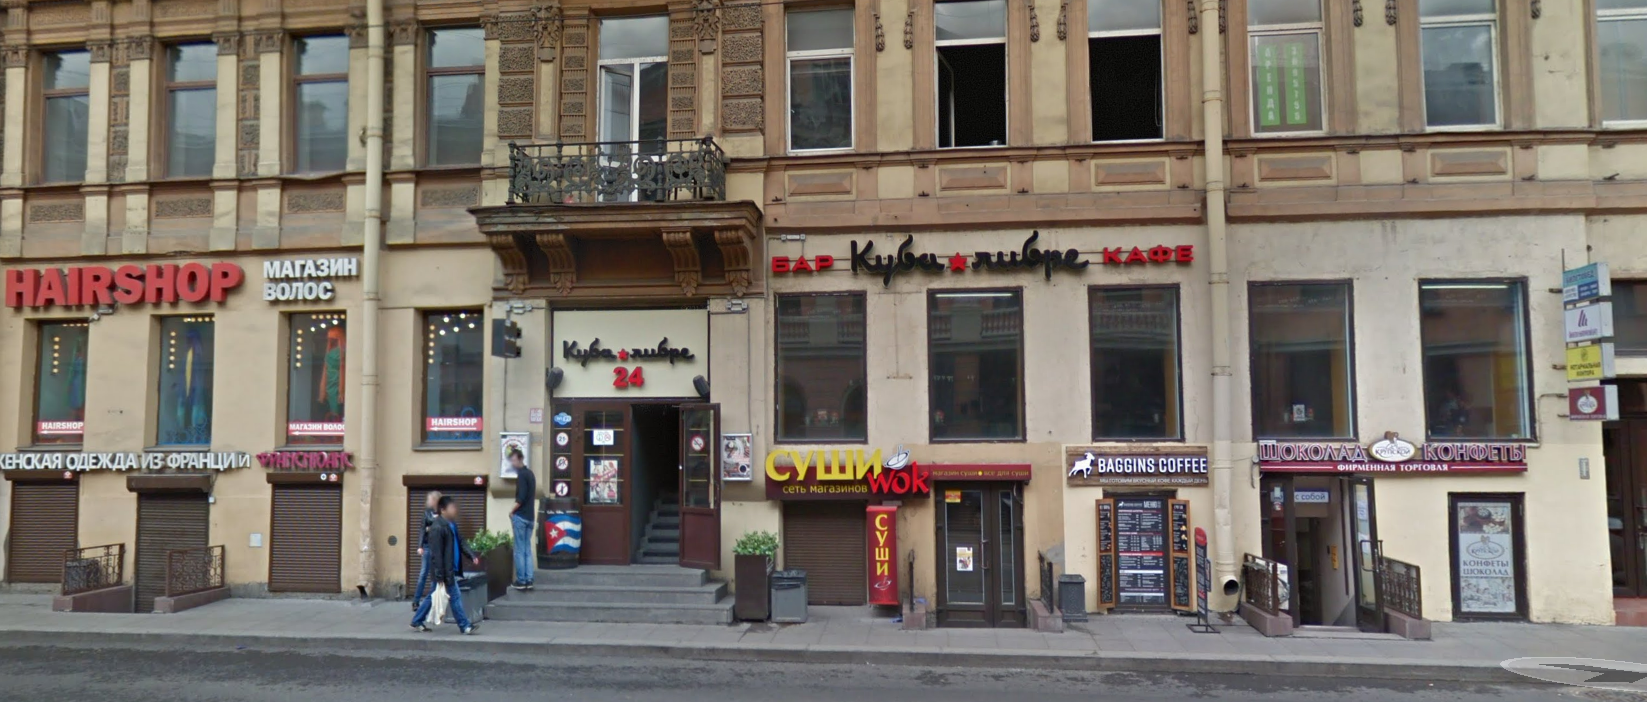cantilever: (1535, 241, 1631, 431), (489, 312, 526, 363)
door: (564, 396, 721, 567), (1262, 475, 1384, 629), (936, 484, 1027, 626)
signboard: (772, 231, 1215, 278), (769, 441, 1034, 501), (1253, 433, 1528, 479), (560, 322, 702, 398), (4, 261, 244, 305), (260, 244, 363, 303), (1066, 443, 1216, 482), (1, 451, 255, 472), (864, 499, 899, 608), (253, 443, 356, 477)
window: (1248, 280, 1358, 432), (1420, 278, 1528, 430), (589, 6, 667, 205), (929, 292, 1026, 442), (1088, 286, 1181, 443), (779, 294, 864, 439), (416, 303, 489, 453), (938, 1, 1009, 154), (781, 1, 851, 159), (414, 23, 487, 167), (1090, 1, 1164, 143), (1252, 1, 1326, 137), (278, 302, 348, 443), (1429, 1, 1499, 136), (1448, 494, 1523, 620), (152, 38, 218, 179), (33, 42, 90, 192), (286, 30, 345, 175), (151, 319, 214, 449), (32, 318, 84, 439), (1601, 1, 1646, 129)
